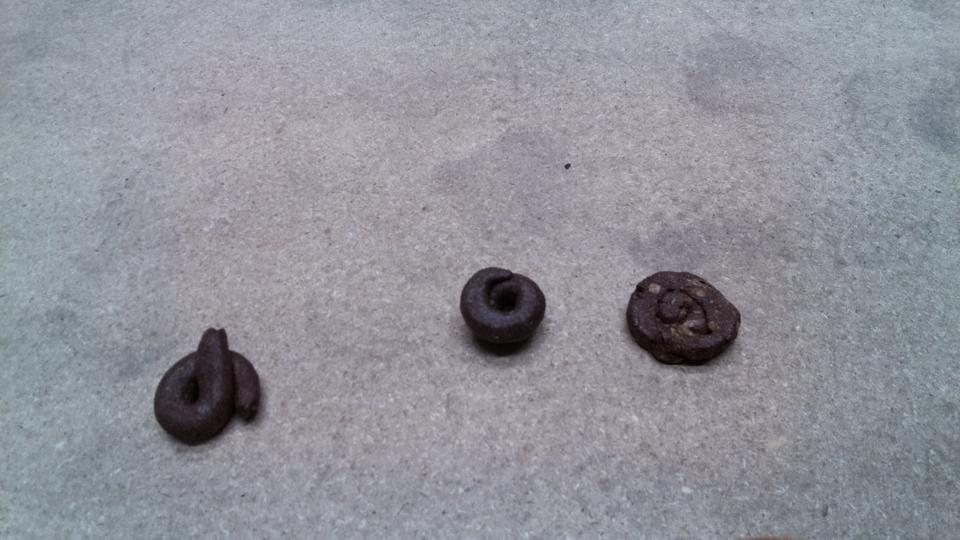poop: (153, 325, 264, 447), (624, 268, 741, 368), (457, 264, 547, 354)
